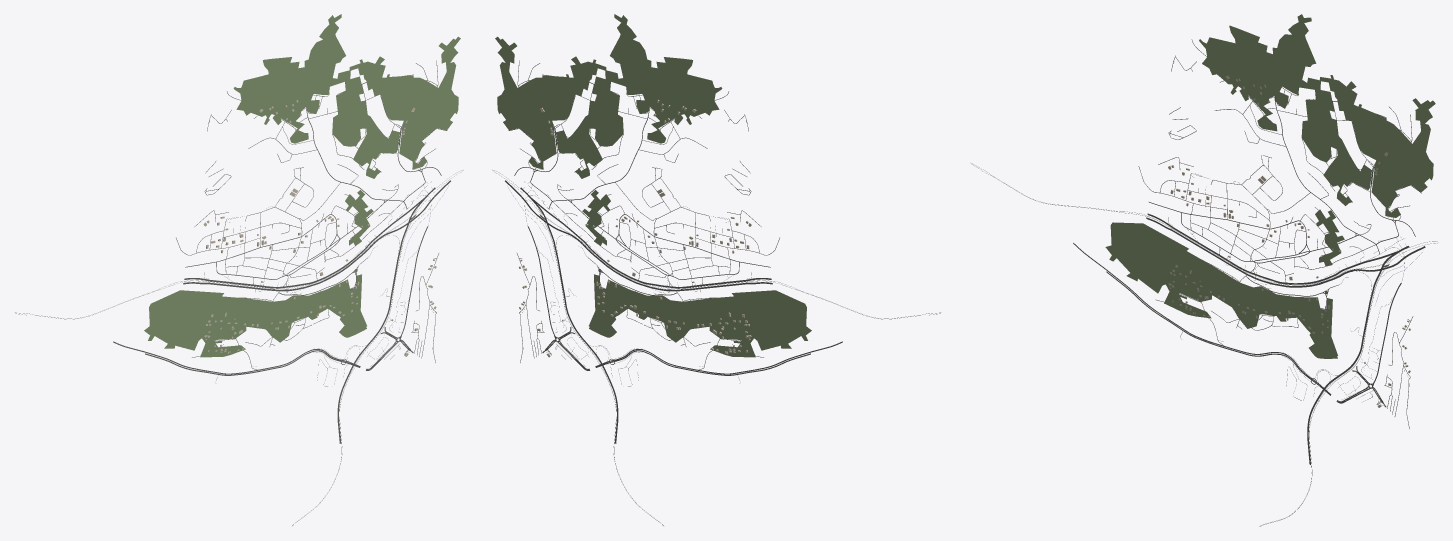
The model's file is tabarbour_1798_1599.glb.
3 views of the same model, side by side, from view 1: azimuth 30°, elevation 25°; view 2: azimuth 150°, elevation 25°; view 3: azimuth 330°, elevation 25° (orthographic). The views are drawn at different scales.
Visible parts, largest first — view 1: Landcover way/1327774893, Landcover way/624999831, Landcover way/624999832, Road شارع الشهيد.002, Road أوتوستراد عمان - الزرقاء.001; view 2: Infrastructure 1327774893.001, Infrastructure 624999831.001, Infrastructure 624999832.001, Road شارع الشهيد.002, Road أوتوستراد عمان - الزرقاء.001; view 3: Landcover way/1327774893, Landcover way/624999831, Landcover way/624999832, Road شارع الشهيد.002.
Boxes of the visible parts, left/top/right/bottom form: Landcover way/1327774893: left=234, top=14, right=460, bottom=178; Landcover way/624999831: left=144, top=274, right=366, bottom=357; Landcover way/624999832: left=345, top=190, right=373, bottom=245; Road شارع الشهيد.002: left=184, top=197, right=425, bottom=288; Road أوتوستراد عمان - الزرقاء.001: left=337, top=197, right=425, bottom=443; Infrastructure 1327774893.001: left=495, top=14, right=721, bottom=178; Infrastructure 624999831.001: left=589, top=274, right=811, bottom=357; Infrastructure 624999832.001: left=582, top=190, right=610, bottom=245; Road شارع الشهيد.002: left=530, top=197, right=771, bottom=288; Road أوتوستراد عمان - الزرقاء.001: left=531, top=199, right=618, bottom=443; Landcover way/1327774893: left=1199, top=14, right=1435, bottom=217; Landcover way/624999831: left=1105, top=222, right=1337, bottom=358; Landcover way/624999832: left=1315, top=209, right=1344, bottom=266; Road شارع الشهيد.002: left=1147, top=213, right=1399, bottom=284.
Bounding box in the file's own units: 3692 × 3937 × 7.5.
